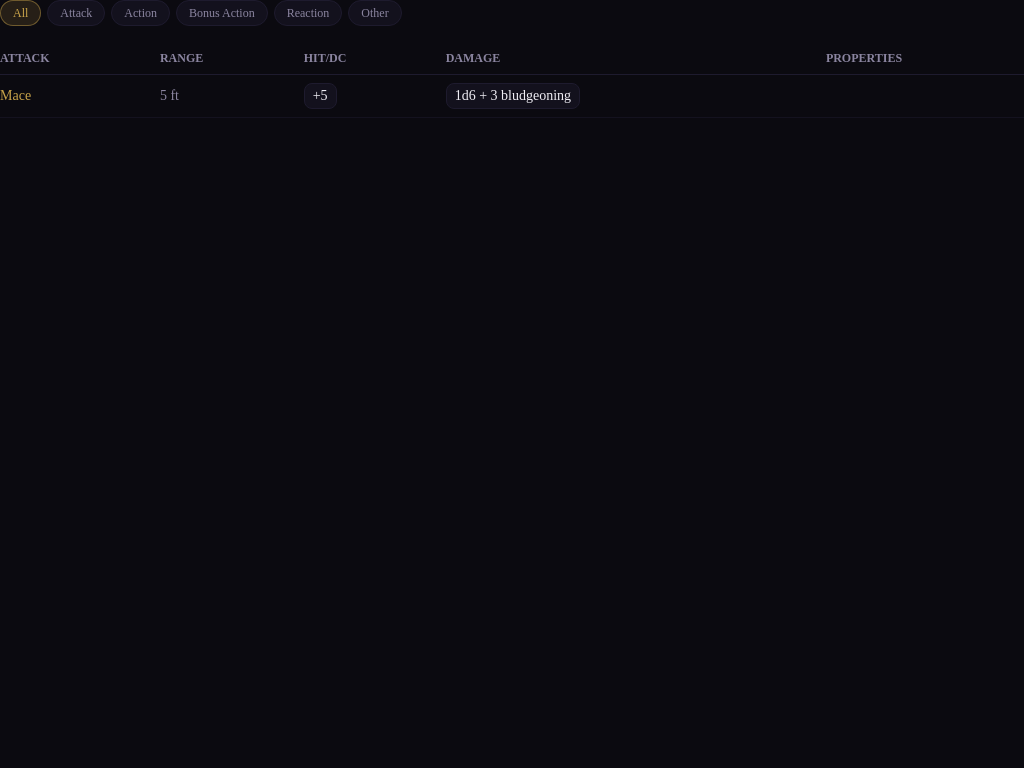
Test: <ActionsTab> — attack → damage crit chain › a later non-crit attack disarms a previously armed crit
The width and height of the screenshot is (1024, 768).
Click the button named "Roll Mace attack".
click(320, 96)  # box x1=304 y1=83 x2=336 y2=109
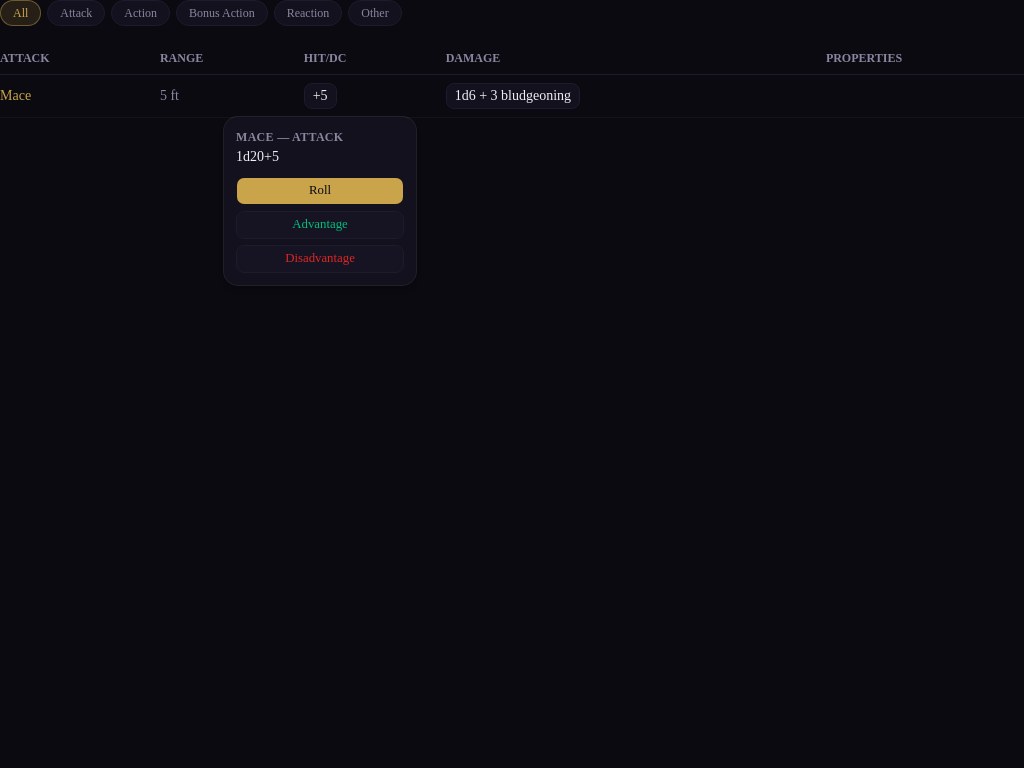
Click the button "Roll".
click(320, 191)  # box x1=236 y1=177 x2=404 y2=205
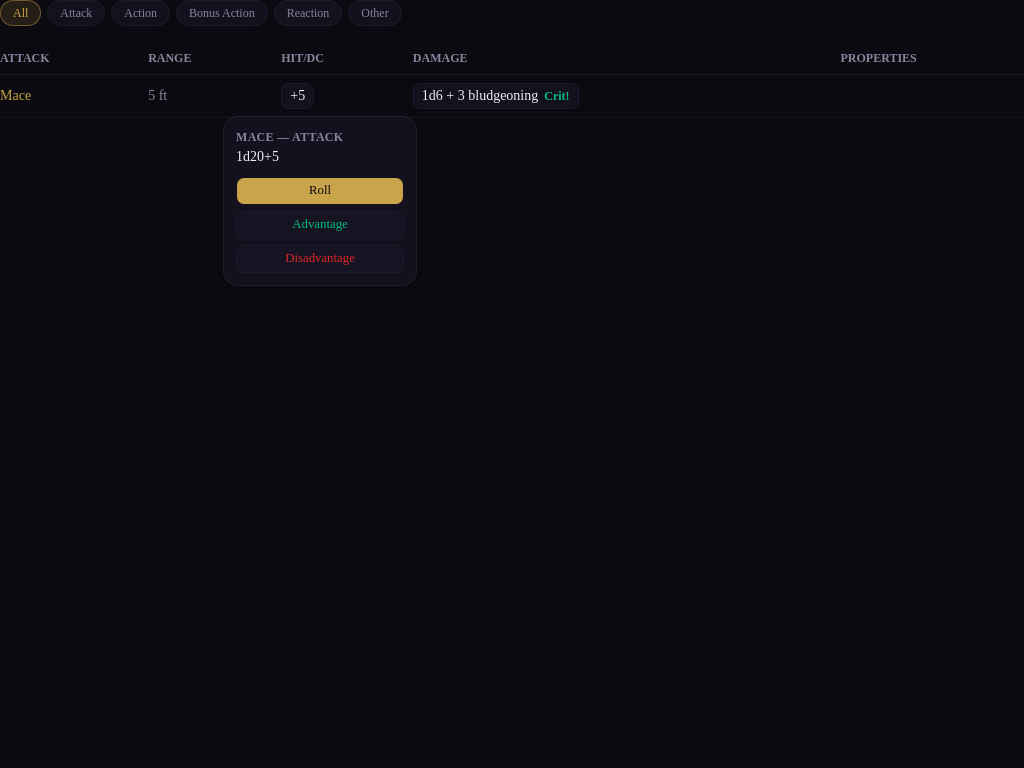
Check: the text "Crit!" is shown, box x1=544 y1=89 x2=570 y2=103
Click the button named "Roll Mace attack".
click(298, 96)  # box x1=281 y1=83 x2=314 y2=109
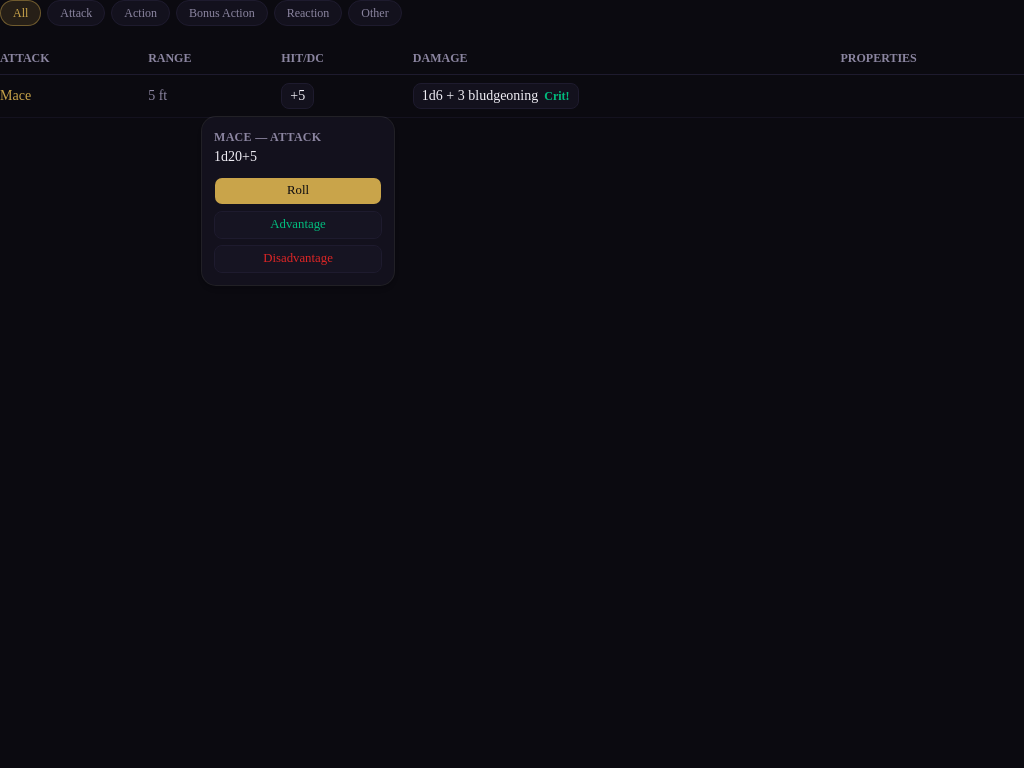
Click the button "Roll".
click(298, 191)  # box x1=214 y1=177 x2=382 y2=205
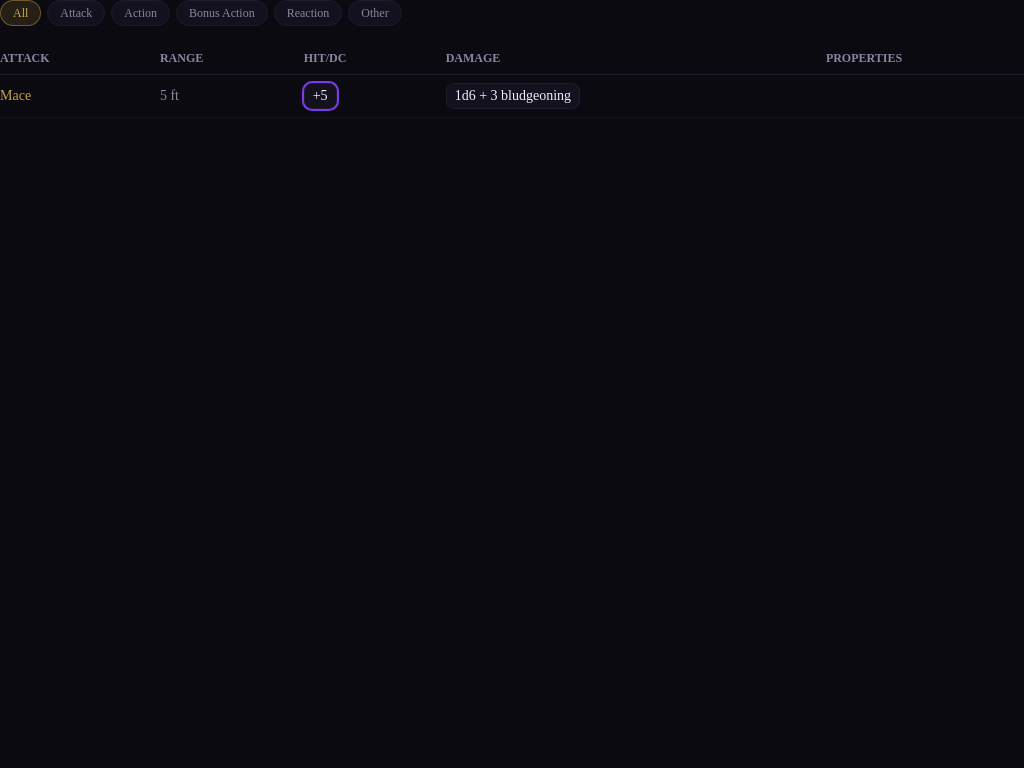
Check: the text "Crit!" is gone
